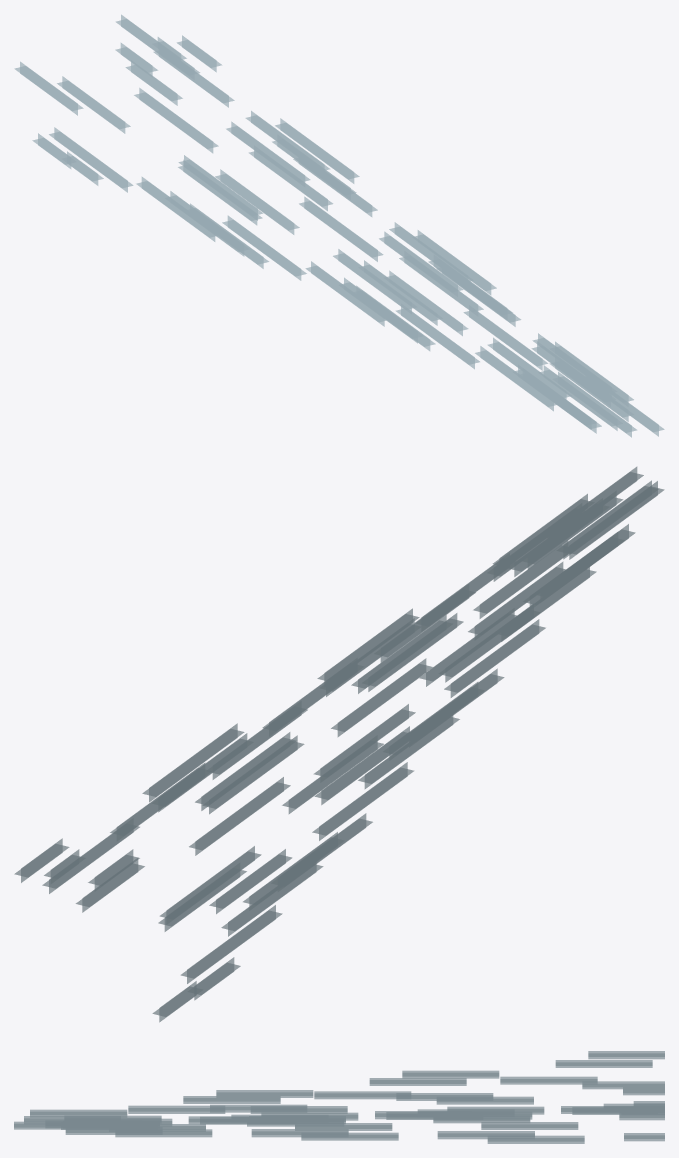
File: wp_water_348.obj
The picture shows the model from 3 angles, top to bottom: view 1: azimuth 30°, elevation 25°; view 2: azimuth 150°, elevation 25°; view 3: azimuth 270°, elevation 25°; orthographic projection. The views are drawn at different scales.
Size of the model in its own units: 0.3264 by 0.2603 by 1.61.
Materials: 1 (1 with a texture image).
